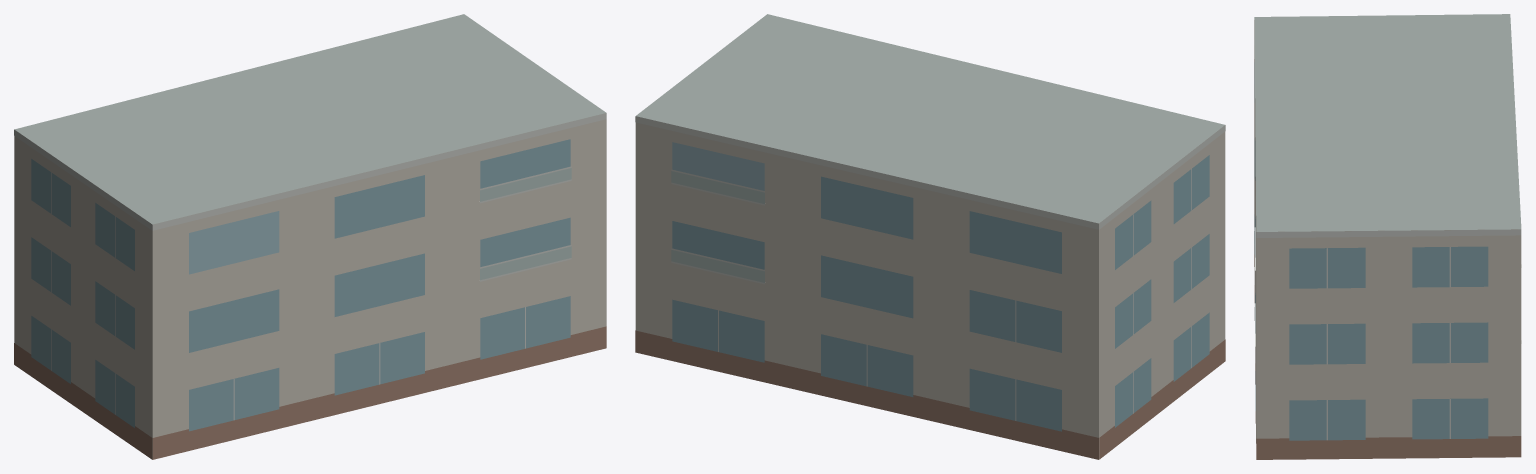
Rendered from survey-upis-32698390.glb.
3 renders of one model, left to right at view 1: azimuth 30°, elevation 25°; view 2: azimuth 150°, elevation 25°; view 3: azimuth 270°, elevation 25°, orthographic. The views are drawn at different scales.
Visible parts, largest first — view 1: survey-upis-32698390.tmp; view 2: survey-upis-32698390.tmp; view 3: survey-upis-32698390.tmp.
Boxes of the visible parts, x1=… form: survey-upis-32698390.tmp: x1=14, y1=14, x2=606, y2=459; survey-upis-32698390.tmp: x1=635, y1=14, x2=1225, y2=459; survey-upis-32698390.tmp: x1=1254, y1=14, x2=1521, y2=459.
Size of the model in its own units: 18.78 by 9.15 by 9.73.
